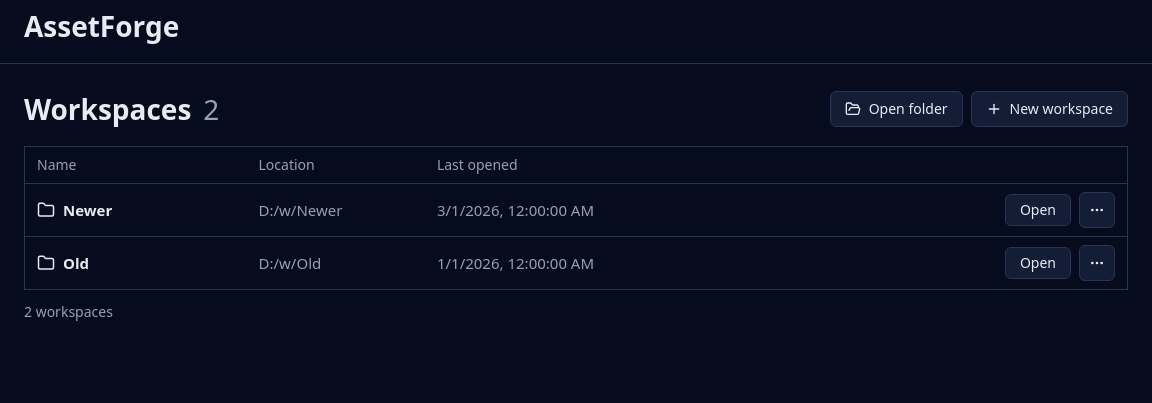
it: while an open runs every action is disabled; a failure frees them again
The image size is (1152, 403).
Click the button with aria-label "Open workspace Old" at coordinates (1038, 263), box x1=1005 y1=247 x2=1071 y2=279
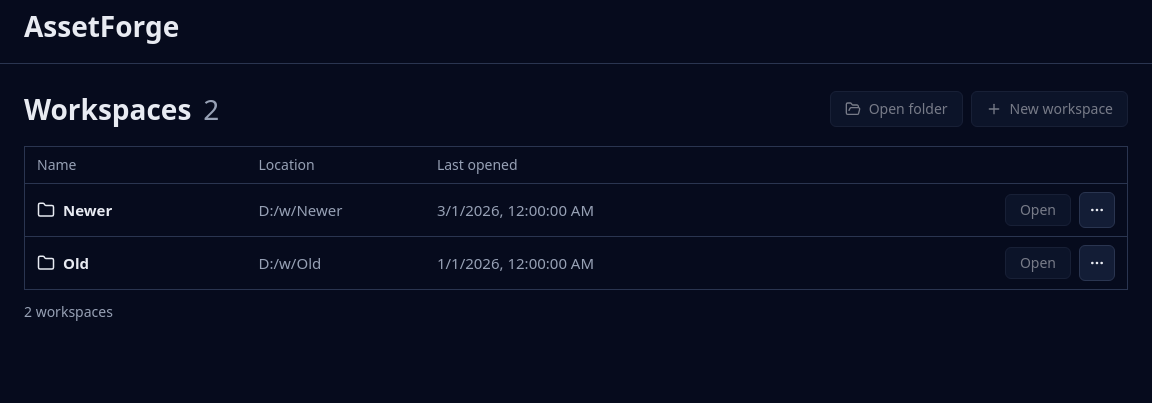
Click the button named "Actions for Newer" at coordinates (1097, 210), box x1=1079 y1=192 x2=1115 y2=228
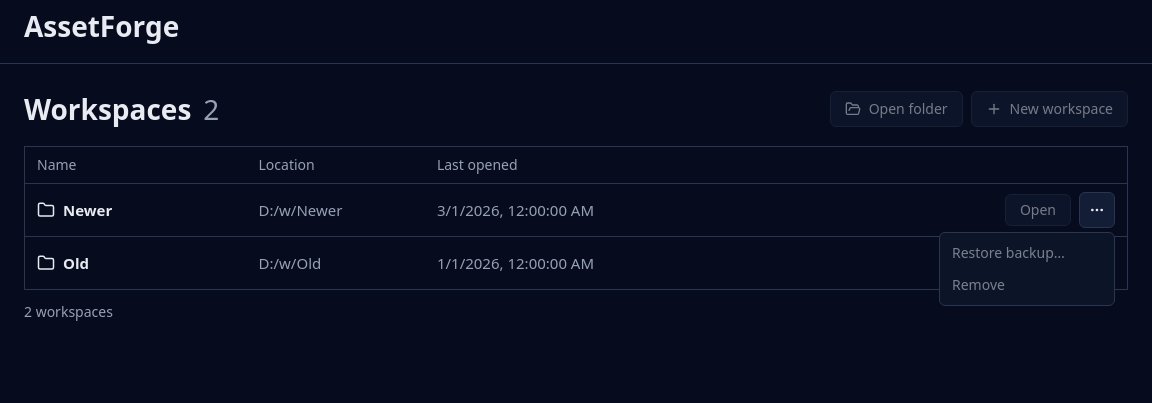
Press Escape
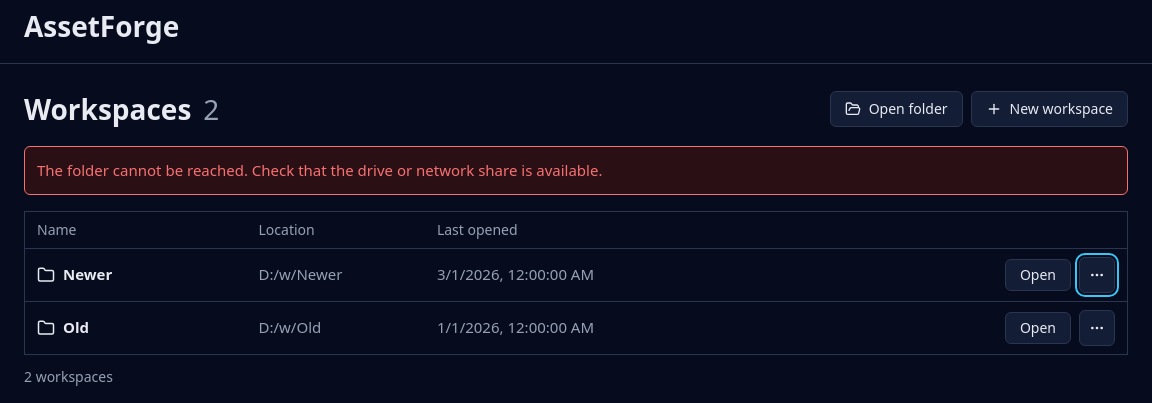
Expected: the message shows "cannot be reached", x1=37 y1=160 x2=602 y2=180
